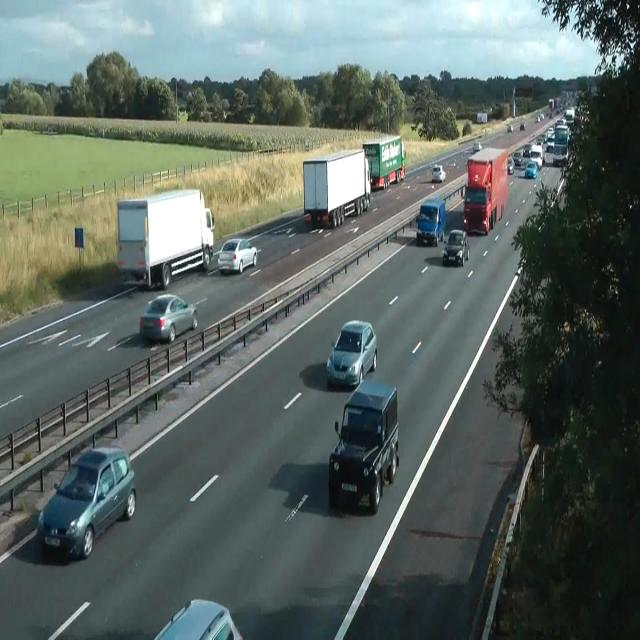bus: (37, 445, 137, 561), (153, 597, 243, 639), (325, 319, 377, 387), (139, 293, 198, 343), (217, 237, 257, 274), (442, 228, 469, 266), (432, 165, 446, 182), (525, 160, 537, 179), (512, 150, 522, 166), (522, 143, 532, 157), (472, 141, 482, 152), (508, 156, 514, 174), (519, 122, 525, 130), (507, 124, 513, 132), (540, 112, 544, 120)
jeep: (327, 379, 399, 514), (463, 183, 491, 235)
minibus: (115, 188, 215, 290), (303, 148, 371, 228), (463, 146, 508, 235), (362, 134, 406, 190), (416, 198, 446, 246), (552, 125, 570, 167), (477, 112, 487, 124)
